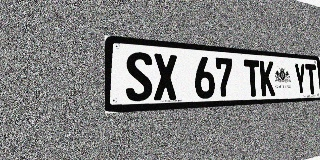6: (194, 56, 215, 99)
7: (214, 57, 234, 98)
K: (259, 61, 275, 96)
S: (125, 51, 153, 102)
T: (244, 59, 261, 97), (305, 64, 317, 94)
X: (153, 53, 178, 101)
Y: (294, 63, 307, 95)
